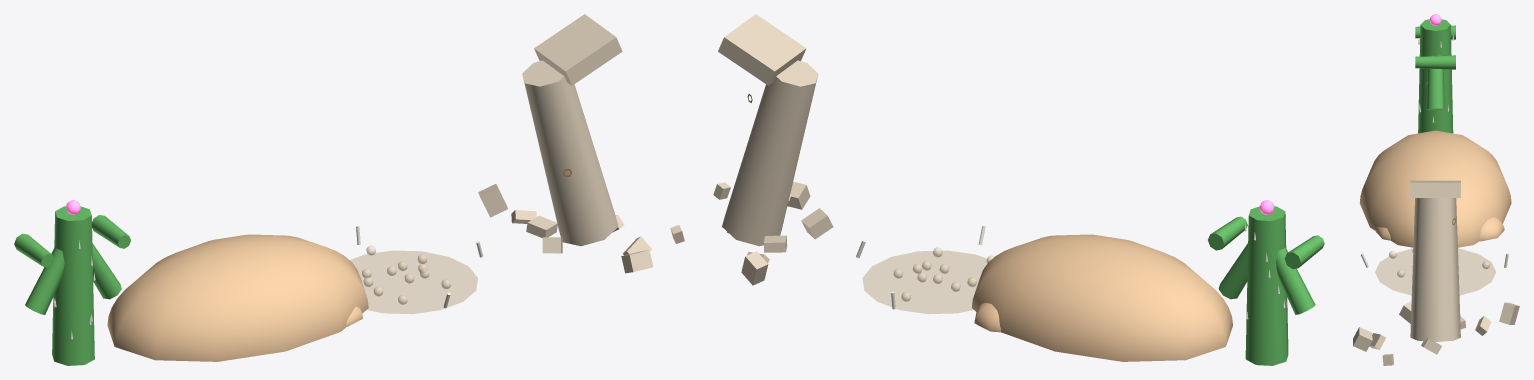
File: obstacles_desert_mobile.glb
3 views of the same model, side by side, from view 1: azimuth 30°, elevation 25°; view 2: azimuth 150°, elevation 25°; view 3: azimuth 270°, elevation 25° (orthographic). The views are drawn at different scales.
Visible parts, largest first — view 1: sandDune_mesh, ancientRuin_mesh (×4), cactus_mesh (×5), quicksand_mesh; view 2: sandDune_mesh (×2), ancientRuin_mesh (×4), cactus_mesh (×5), quicksand_mesh; view 3: sandDune_mesh (×3), ancientRuin_mesh (×8), cactus_mesh (×3), quicksand_mesh.
Part boxes in pixels (x1,y1,x2,y2): sandDune_mesh: (107, 234, 368, 361); ancientRuin_mesh (×4): (478, 14, 653, 273); cactus_mesh (×5): (14, 206, 130, 365); quicksand_mesh: (349, 250, 477, 314); sandDune_mesh (×2): (971, 234, 1232, 361); ancientRuin_mesh (×4): (718, 14, 833, 285); cactus_mesh (×5): (1208, 206, 1324, 365); quicksand_mesh: (862, 250, 990, 314); sandDune_mesh (×3): (1359, 130, 1511, 247); ancientRuin_mesh (×8): (1353, 180, 1519, 354); cactus_mesh (×3): (1415, 19, 1455, 133); quicksand_mesh: (1375, 248, 1496, 295).
Bounding box in the file's own units: 11.44 × 3.68 × 3.3.
